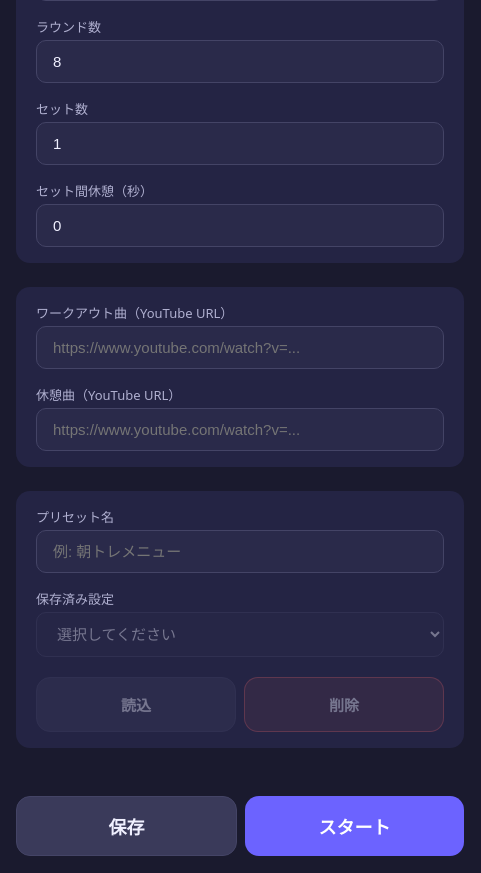
Test: App 統合テスト › キーボードショートカット: フォーム入力中はショートカット無効
The image size is (481, 873).
(page scrolled)
Click the button "スタート": (354, 826) [245,796,464,856]
(page scrolled)
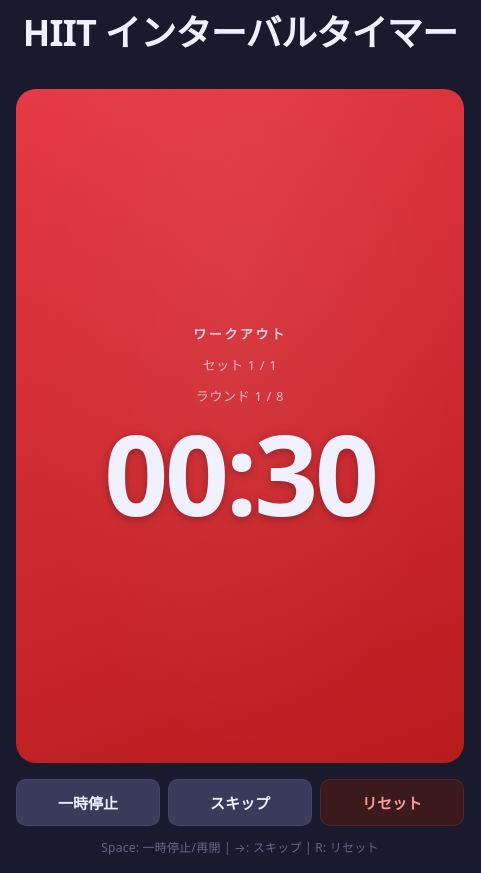
タイマー実行中にSpaceキーを押す（コントロールにフォーカスしていない場合）
Press Space
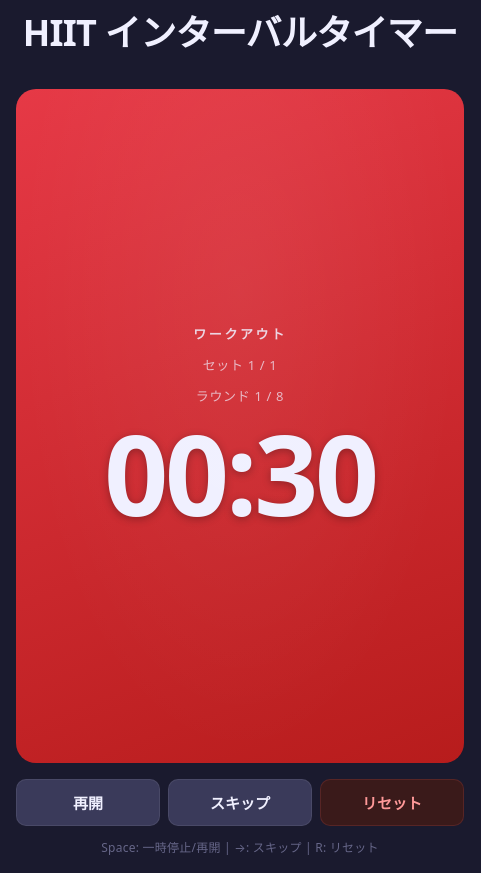
Expected: the button labelled "再開" is shown, [16,779,160,826]
